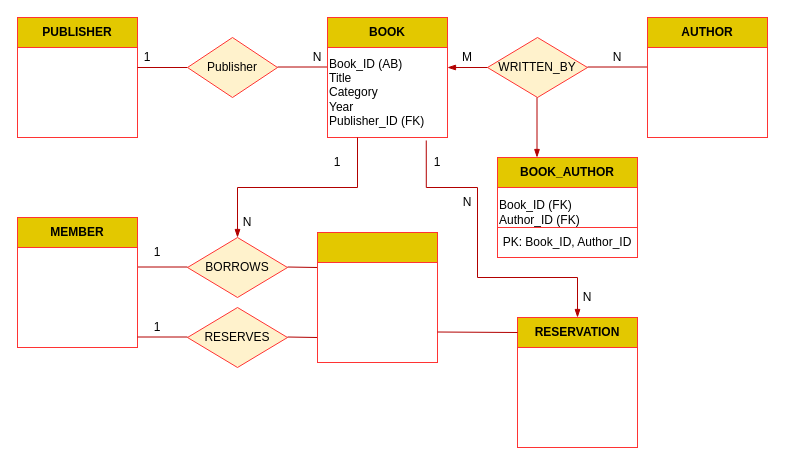
This 785x465 diagram has some shape labels left out. Here are the shapes that lost their labels. From the top down, the box of each, then its label:
(16, 46, 138, 138): Publisher_ID (PK) Name Address Phone Email
(646, 46, 768, 138): Author_ID (AB) Name Email Nationality
(316, 232, 438, 262): LOAN
(16, 246, 138, 348): Member_ID (PK) Name Address Phone Email Join_Date
(316, 262, 438, 362): Loan_ID (PK) Book_ID (FK) Member_ID (FK) Issue_Date Due_date Return_Date
(516, 346, 638, 448): Reservation_ID (PK) Book_ID (FK) Member_ID (FK) Reserve_Date Status
